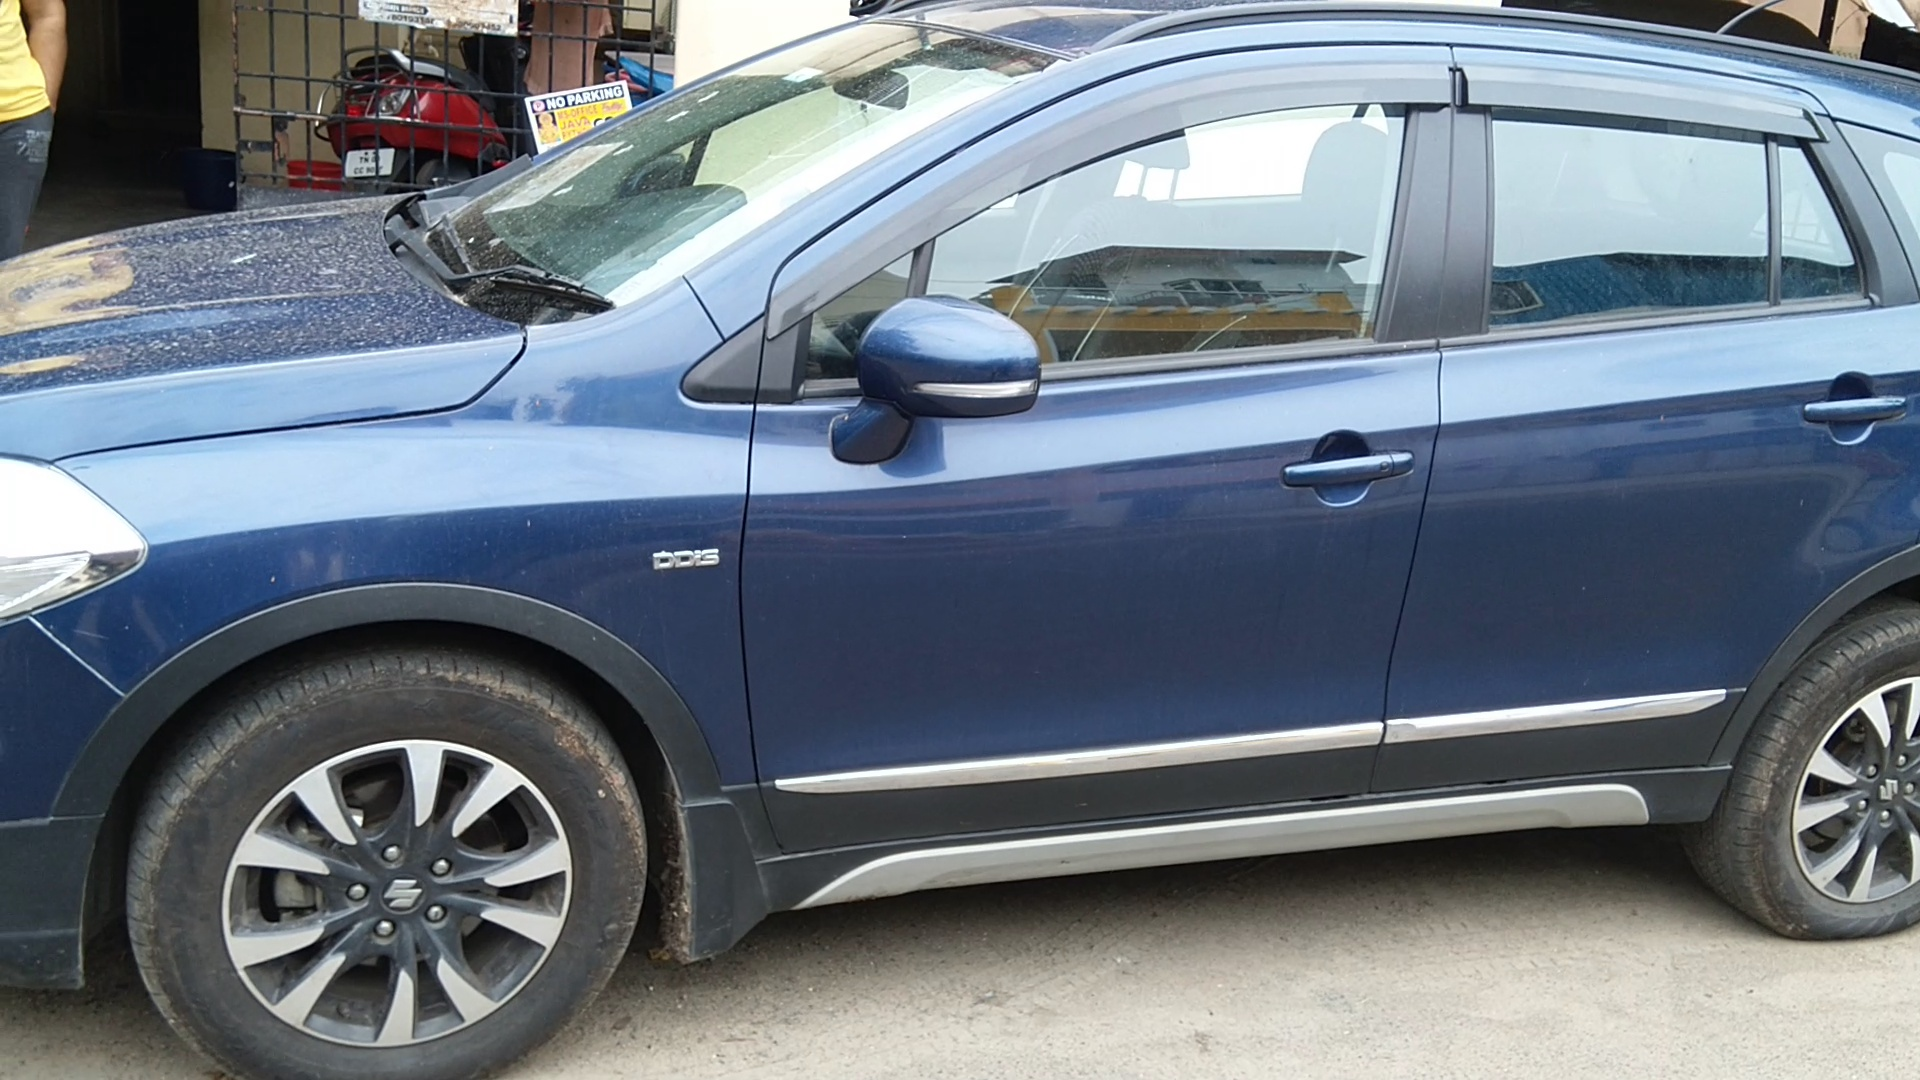alloy_wheel: (144, 663, 638, 1080), (1758, 618, 1920, 945)
ovr_mirror: (837, 281, 1047, 465)
